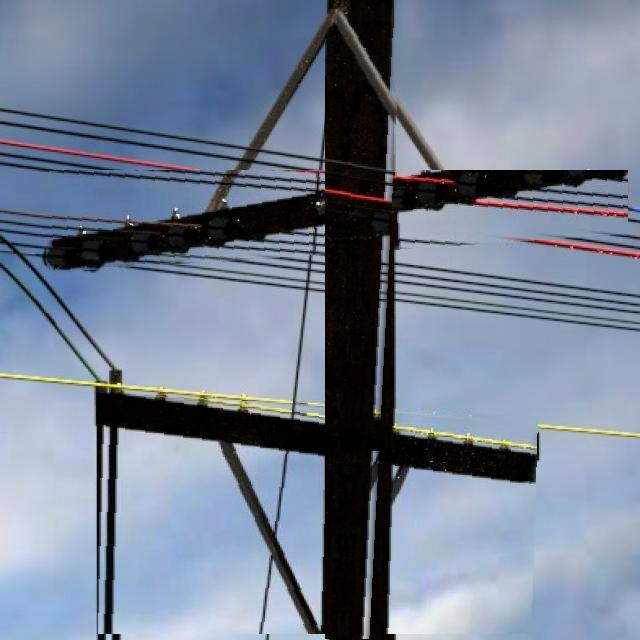crossarm: (98, 394, 538, 634), (46, 170, 627, 271)
pole: (325, 28, 395, 639), (348, 0, 394, 84)
